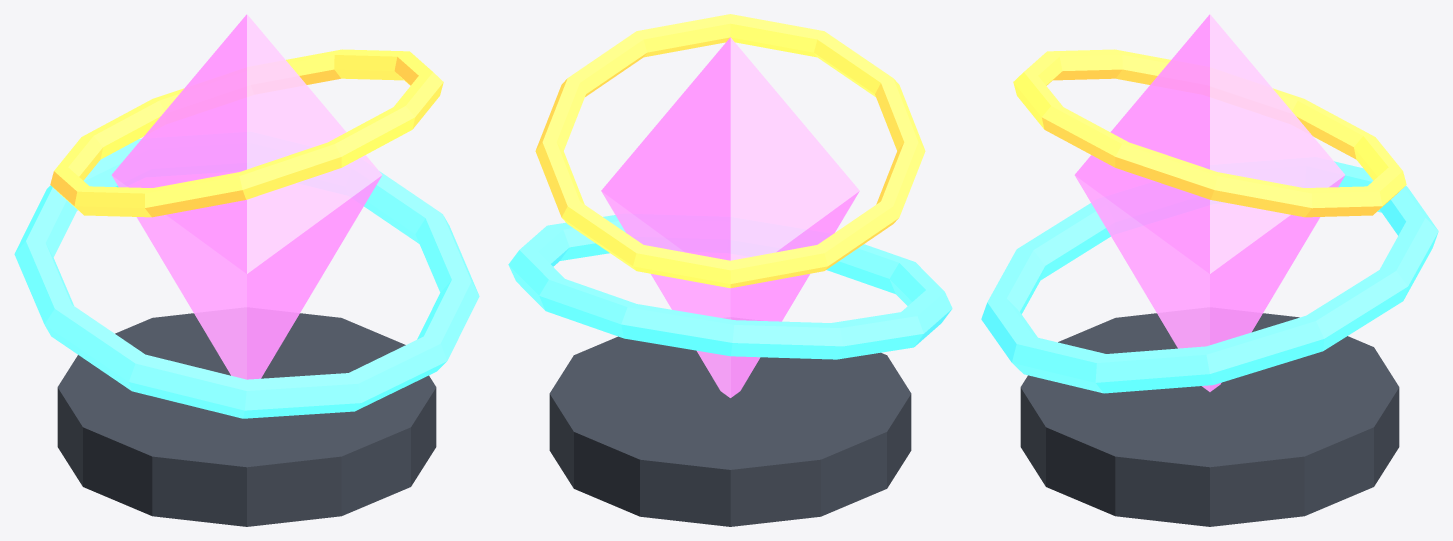
File: AXM-PICKUP-GEM-001_LOD2.glb
The picture shows the model from 3 angles, left to right: view 1: azimuth 30°, elevation 25°; view 2: azimuth 150°, elevation 25°; view 3: azimuth 270°, elevation 25°; orthographic projection. The views are drawn at different scales.
Visible parts, largest first — view 1: base, gem, lower_orbit, upper_orbit; view 2: base, gem, upper_orbit, lower_orbit; view 3: base, gem, lower_orbit, upper_orbit.
Part boxes in pixels (bbox=[...]): base: bbox=[57, 313, 436, 526]; gem: bbox=[111, 14, 382, 379]; lower_orbit: bbox=[14, 138, 479, 418]; upper_orbit: bbox=[50, 49, 443, 217]; base: bbox=[549, 336, 911, 526]; gem: bbox=[601, 37, 859, 397]; upper_orbit: bbox=[535, 14, 925, 288]; lower_orbit: bbox=[508, 215, 952, 359]; base: bbox=[1020, 313, 1399, 526]; gem: bbox=[1074, 14, 1345, 391]; lower_orbit: bbox=[981, 161, 1438, 393]; upper_orbit: bbox=[1013, 49, 1406, 217].
Size of the model in its own units: 0.568 by 0.58 by 0.5556.
